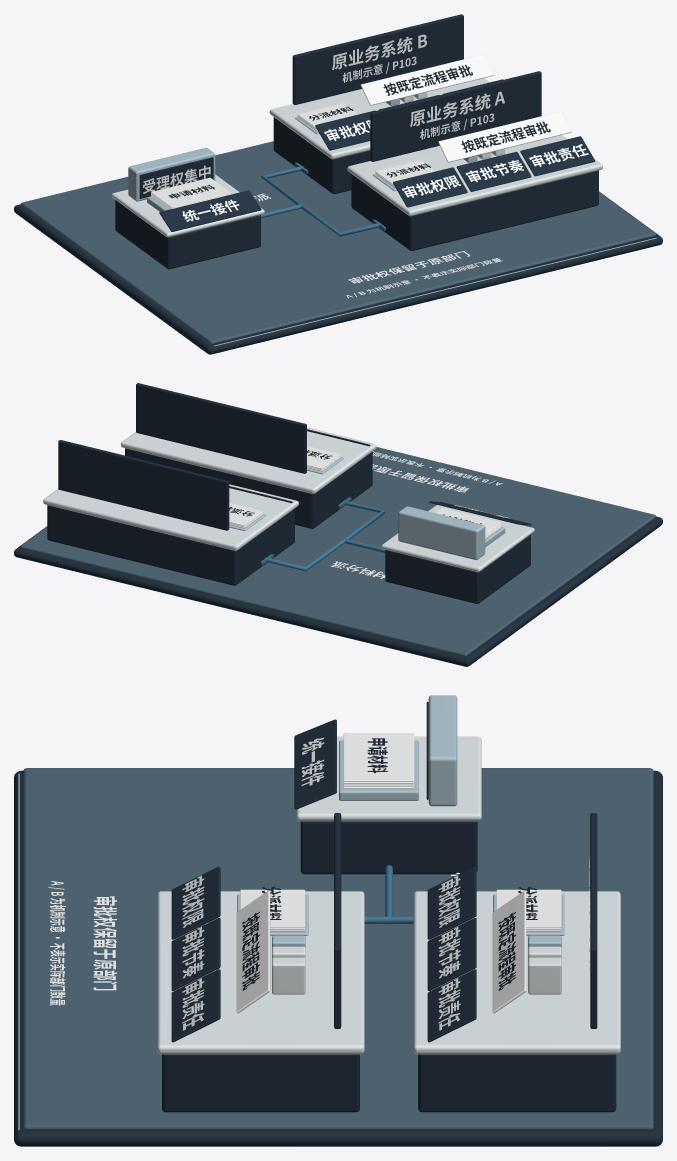
File: routing_p103_readable_v100.glb
The picture shows the model from 3 angles, top to bottom: view 1: azimuth 30°, elevation 25°; view 2: azimuth 150°, elevation 25°; view 3: azimuth 270°, elevation 25°; orthographic projection. The views are drawn at different scales.
Parts seen in each view (by area): view 1: Routing porcelain floor, Routing system A chassis, Routing system A enamel nameplate, Routing system B enamel nameplate, Routing complete exhibition plinth, Routing single acceptance desk, Routing system A worktop, Routing system B worktop, Routing system B chassis, Routing system B procedure plaque, Routing system A procedure plaque, Routing unified intake plaque (+18 smaller); view 2: Routing porcelain floor, Routing system B chassis, Routing system B enamel nameplate, Routing system A enamel nameplate, Routing complete exhibition plinth, Routing system B worktop, Routing system A worktop, Routing single acceptance desk, Routing system A chassis, Routing reception monitor rim, Routing acceptance worktop, Routing system B distributed document 2 (+4 smaller); view 3: Routing porcelain floor, Routing system B worktop, Routing system A worktop, Routing complete exhibition plinth, Routing system B chassis, Routing system A chassis, Routing single acceptance desk, Routing acceptance worktop, Routing reception monitor rim, Routing accepted paper 4, Routing system A procedure plaque, Routing system B procedure plaque (+22 smaller).
Boxes of the visible parts, box(x1,y1,x2,y2) form: Routing porcelain floor: box(20, 141, 655, 344); Routing system A chassis: box(351, 170, 598, 250); Routing system A enamel nameplate: box(370, 71, 541, 161); Routing system B enamel nameplate: box(292, 14, 463, 104); Routing complete exhibition plinth: box(14, 191, 662, 354); Routing single acceptance desk: box(115, 200, 260, 269); Routing system A worktop: box(347, 135, 602, 216); Routing system B worktop: box(269, 78, 489, 159); Routing system B chassis: box(273, 117, 370, 194); Routing system B procedure plaque: box(360, 54, 493, 105); Routing system A procedure plaque: box(438, 111, 571, 162); Routing unified intake plaque: box(159, 190, 261, 231); Routing porcelain floor: box(21, 447, 656, 656); Routing system B chassis: box(47, 505, 294, 585); Routing system B enamel nameplate: box(58, 440, 229, 530); Routing system A enamel nameplate: box(136, 383, 306, 473); Routing complete exhibition plinth: box(14, 516, 662, 666); Routing system B worktop: box(43, 484, 298, 550); Routing system A worktop: box(121, 427, 376, 493); Routing single acceptance desk: box(385, 534, 530, 603); Routing system A chassis: box(125, 448, 372, 528); Routing reception monitor rim: box(398, 506, 485, 560); Routing acceptance worktop: box(381, 505, 534, 572); Routing system B distributed document 2: box(229, 503, 263, 525); Routing porcelain floor: box(23, 768, 653, 1130); Routing system B worktop: box(413, 891, 620, 1054); Routing system A worktop: box(157, 891, 364, 1054); Routing complete exhibition plinth: box(14, 770, 662, 1146); Routing system B chassis: box(418, 1054, 616, 1112); Routing system A chassis: box(162, 1054, 359, 1112); Routing single acceptance desk: box(300, 821, 477, 874); Routing acceptance worktop: box(296, 736, 481, 821); Routing reception monitor rim: box(428, 695, 457, 806); Routing accepted paper 4: box(343, 733, 414, 781); Routing system A procedure plaque: box(236, 890, 270, 1013); Routing system B procedure plaque: box(492, 890, 526, 1013).
Bounding box in the file's own units: 10.3 × 2.35 × 7.7.
